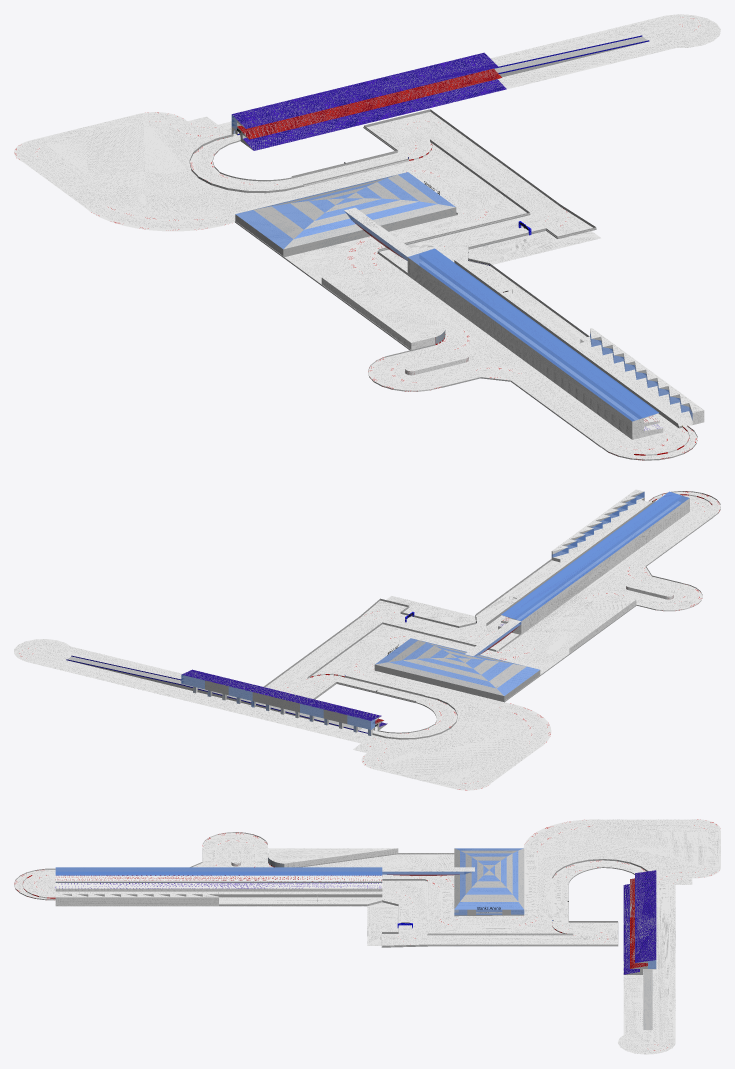
The picture shows the model from 3 angles, top to bottom: view 1: azimuth 30°, elevation 25°; view 2: azimuth 150°, elevation 25°; view 3: azimuth 270°, elevation 25°; orthographic projection. The views are drawn at different scales.
Visible parts, largest first — view 1: SketchUp (×32); view 2: SketchUp (×25); view 3: SketchUp (×33).
Boxes of the visible parts, bbox=[...] form: SketchUp (×32): bbox=[14, 14, 720, 459]; SketchUp (×25): bbox=[14, 489, 720, 790]; SketchUp (×33): bbox=[14, 819, 720, 1054].
Bounding box in the file's own units: 20445 × 25956 × 600.
